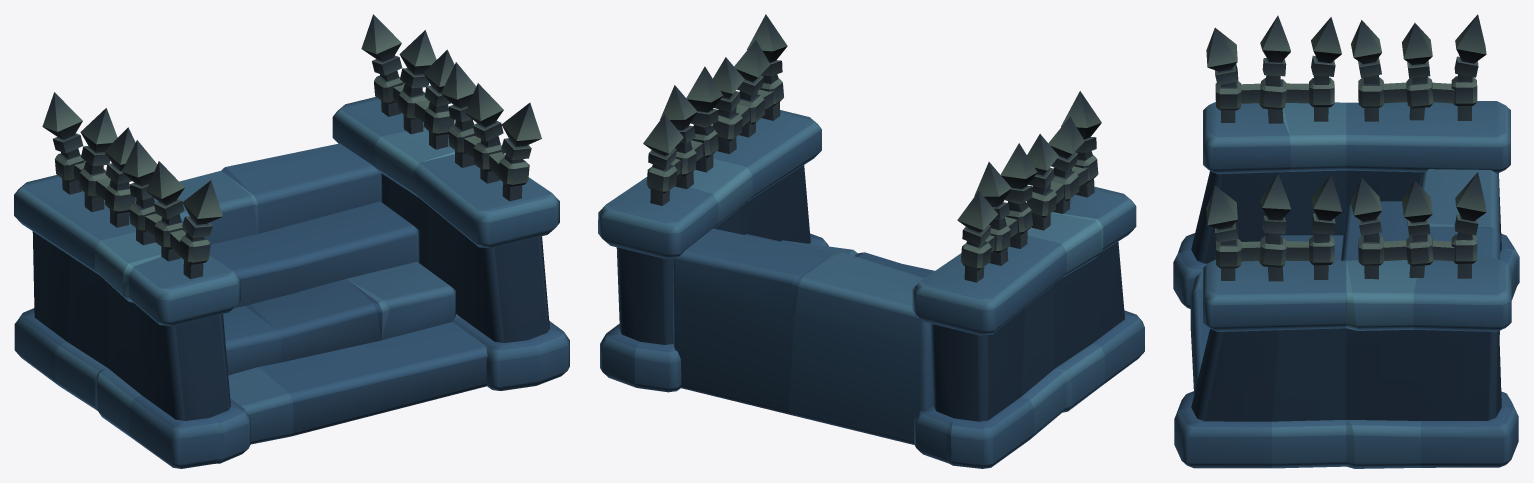
The model's file is stair_set_1.fbx.
3 views of the same model, side by side, from view 1: azimuth 30°, elevation 25°; view 2: azimuth 150°, elevation 25°; view 3: azimuth 270°, elevation 25° (orthographic). The views are drawn at different scales.
Parts seen in each view (by area): view 1: stair_set_1; view 2: stair_set_1; view 3: stair_set_1.
Part boxes in pixels (x1=…): stair_set_1: x1=14, y1=14, x2=569, y2=468; stair_set_1: x1=598, y1=14, x2=1144, y2=468; stair_set_1: x1=1173, y1=14, x2=1519, y2=468.
Size of the model in its own units: 316 by 204 by 232.
